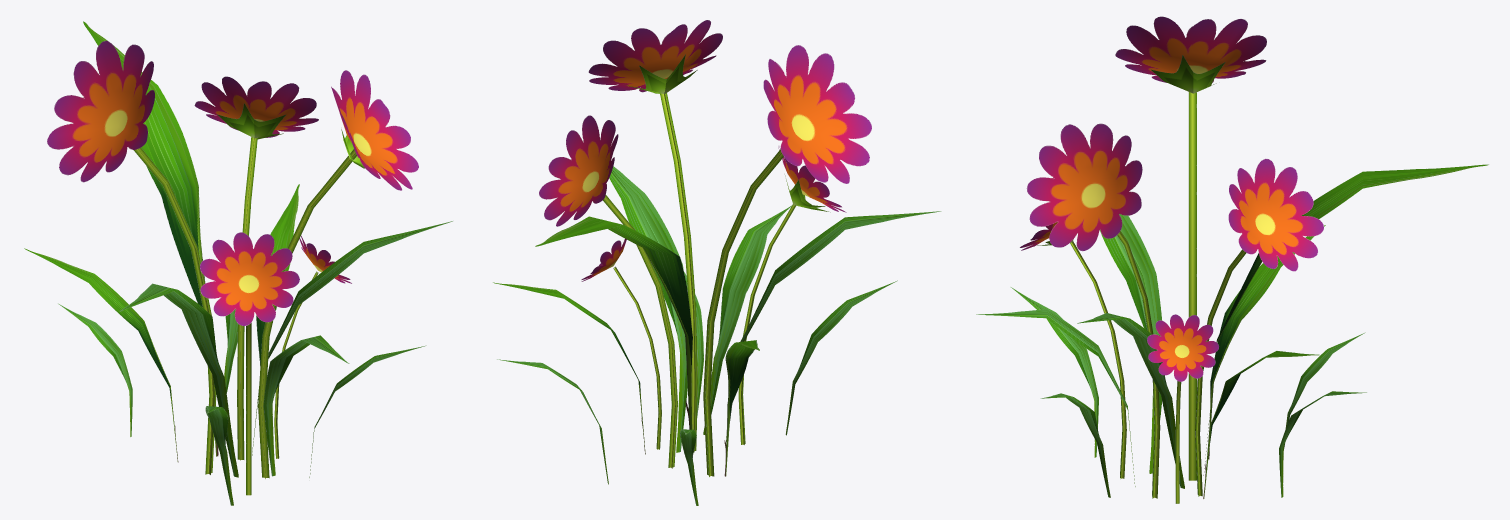
File: Flower_10.FBX
3 views of the same model, side by side, from view 1: azimuth 30°, elevation 25°; view 2: azimuth 150°, elevation 25°; view 3: azimuth 270°, elevation 25° (orthographic). The views are drawn at different scales.
Visible parts, largest first — view 1: Flower_10; view 2: Flower_10; view 3: Flower_10.
Boxes of the visible parts, x1,y1,x2,y2 form: Flower_10: (24, 21, 452, 505); Flower_10: (493, 20, 941, 505); Flower_10: (976, 16, 1488, 503).
Bounding box in the file's own units: 45.75 × 52.53 × 56.98.
